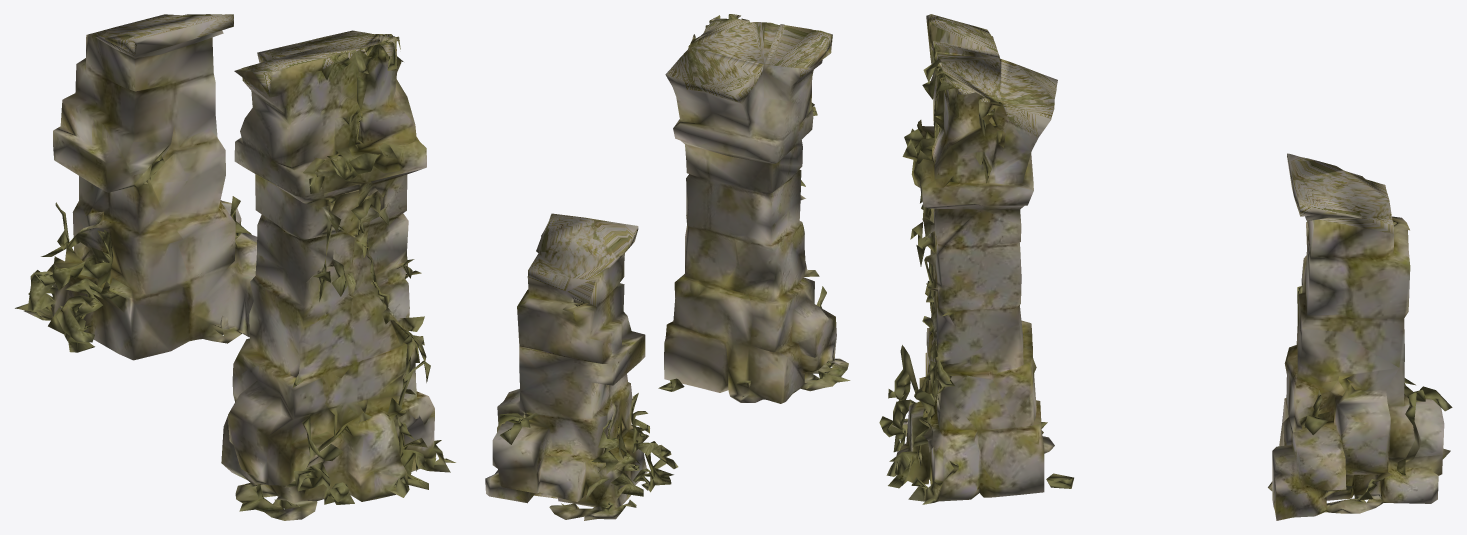
Rendered from ruin_arch_b.glb.
3 views of the same model, side by side, from view 1: azimuth 30°, elevation 25°; view 2: azimuth 150°, elevation 25°; view 3: azimuth 270°, elevation 25° (orthographic). The views are drawn at different scales.
Visible parts, largest first — view 1: ruin_arch_b__arch; view 2: ruin_arch_b__arch; view 3: ruin_arch_b__arch.
Part boxes in pixels (x1,y1,x2,y2): ruin_arch_b__arch: (15,14,455,520); ruin_arch_b__arch: (485,14,850,520); ruin_arch_b__arch: (879,14,1452,520).
Bounding box in the file's own units: 1.24 × 2.22 × 2.78.
Materials: 1 (1 with a texture image).
